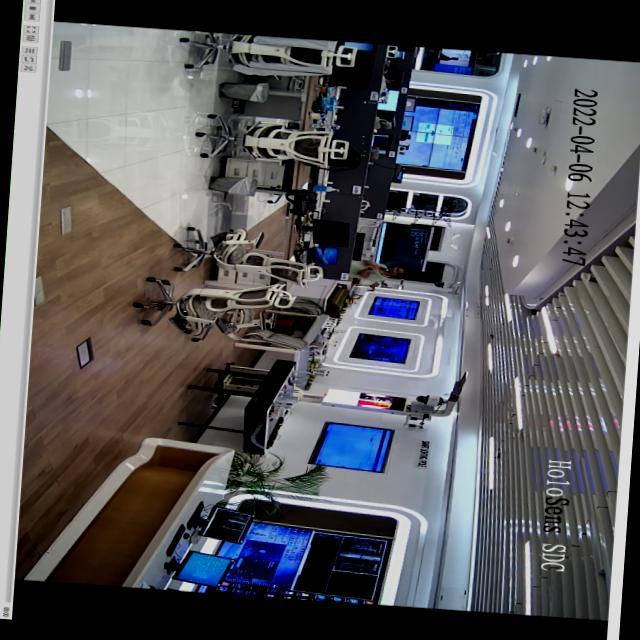long weapon: (362, 260, 389, 274)
